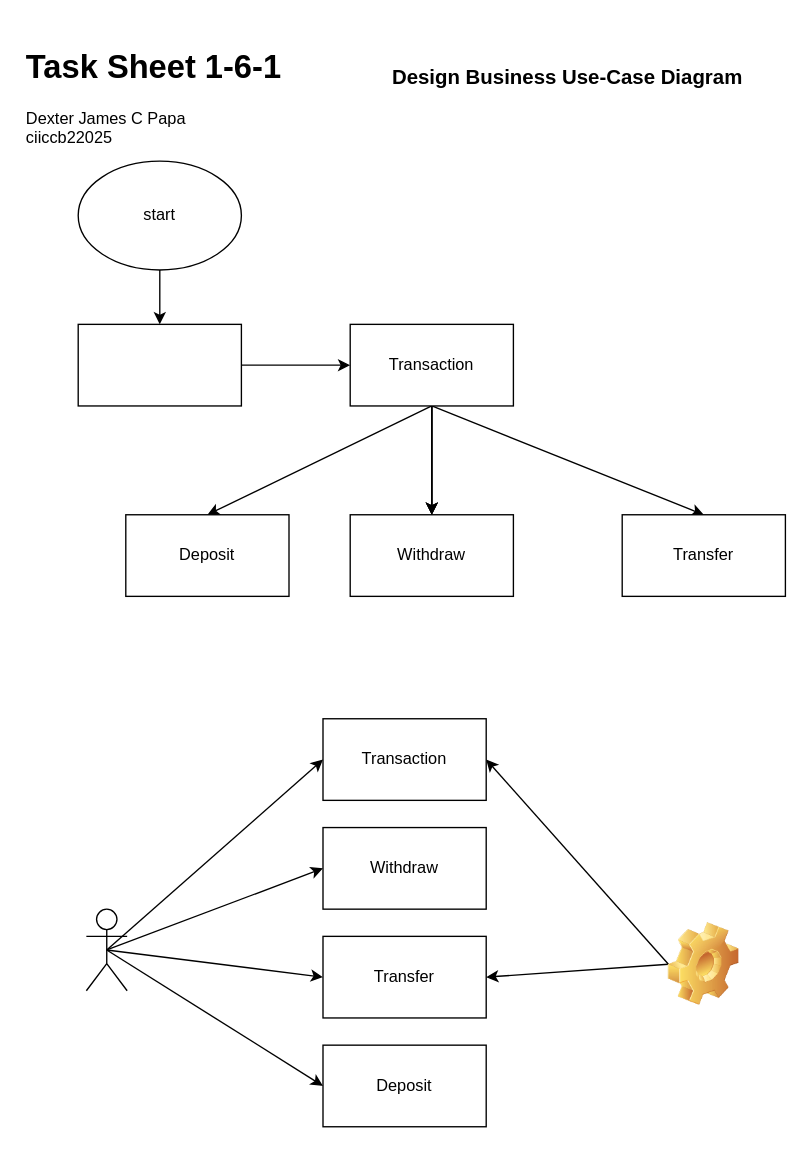
Image size: 809x1151. Some labels were removed from this diagram. Here are the shapes that lost their labels. From the top down, the centre of each, then its label:
the point at 159,364: Login
the point at 106,949: user
the point at 703,963: bank system
